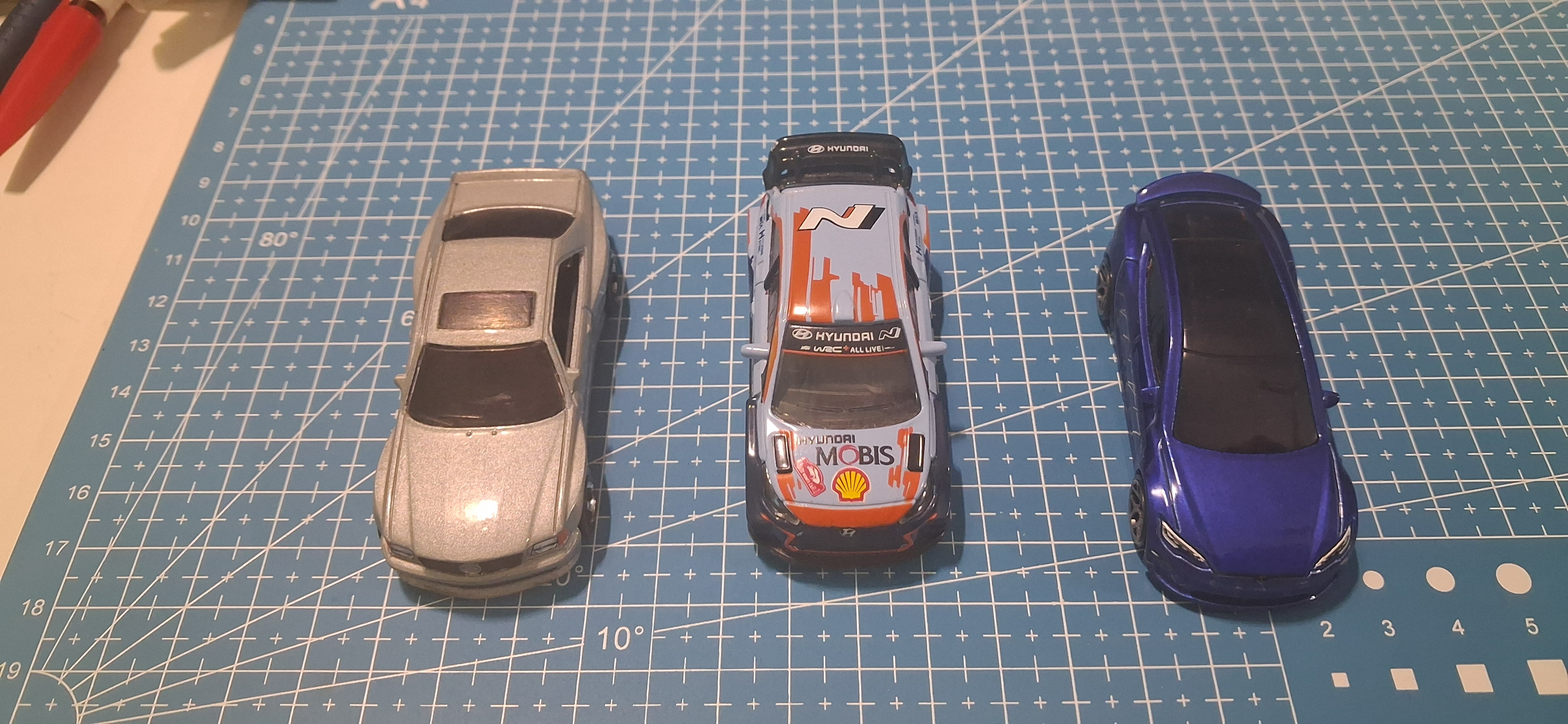Hyundai_I20_WRC: (708, 101, 992, 606)
Mercedes_Benz_560_SEC_AMG: (372, 120, 636, 640)
Tesla_Model_S_Plaid: (1071, 131, 1392, 630)
